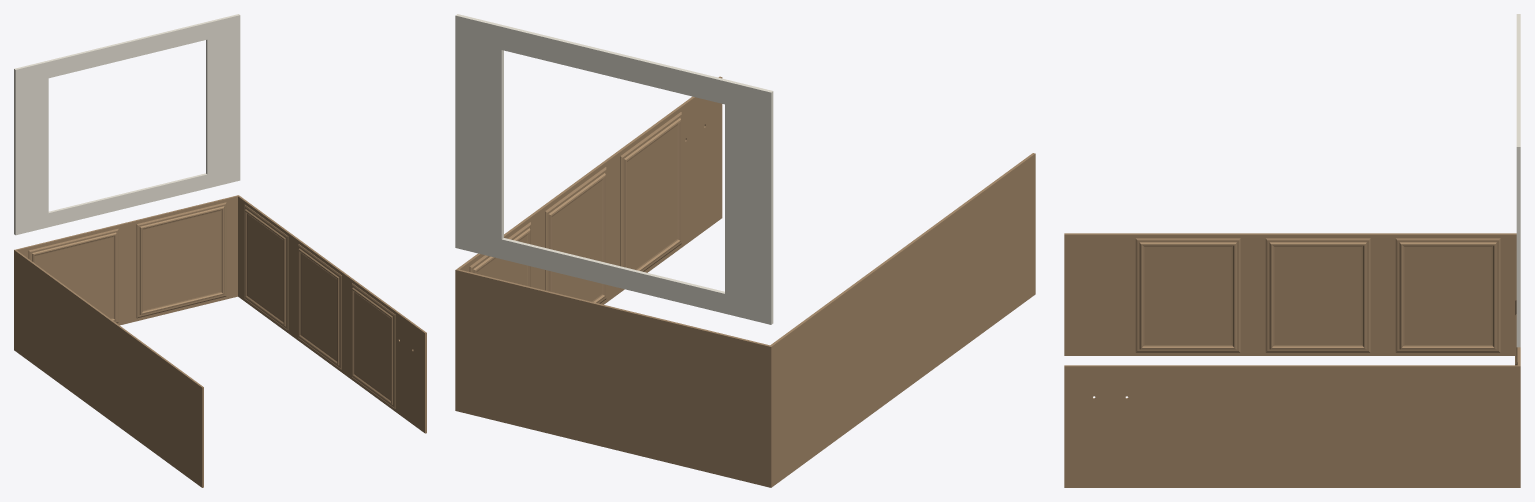
File: lift_joinery.glb
3 renders of one model, left to right at view 1: azimuth 30°, elevation 25°; view 2: azimuth 150°, elevation 25°; view 3: azimuth 270°, elevation 25°, orthographic. The views are drawn at different scales.
Visible parts, largest first — view 1: CabJoinery, RearEnamel; view 2: CabJoinery, RearEnamel; view 3: CabJoinery, RearEnamel.
Boxes of the visible parts, <box> form: CabJoinery: <box>14,195,426,487</box>; RearEnamel: <box>14,14,240,235</box>; CabJoinery: <box>455,76,1035,487</box>; RearEnamel: <box>455,14,773,324</box>; CabJoinery: <box>1064,233,1520,487</box>; RearEnamel: <box>1516,14,1520,347</box>.
Size of the model in its own units: 1.5 by 1.8 by 2.18.
